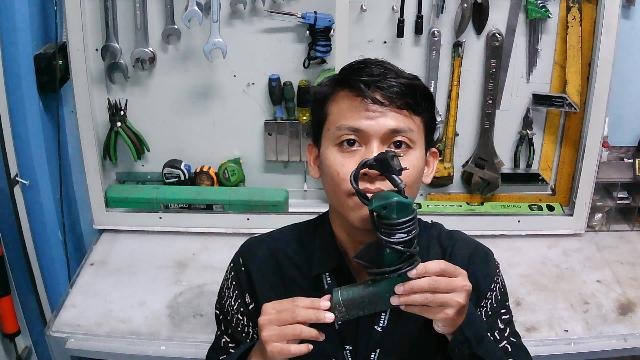gun_lem: (320, 147, 430, 330)
